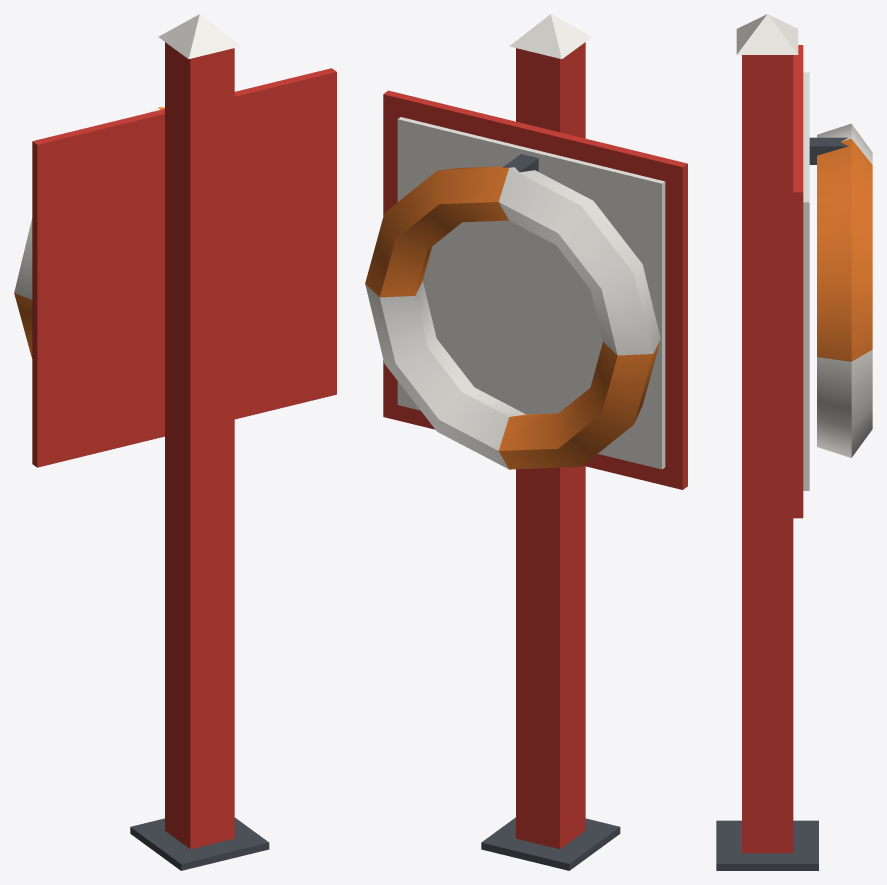
File: prop_lifebuoy_stand.glb
3 views of the same model, side by side, from view 1: azimuth 30°, elevation 25°; view 2: azimuth 150°, elevation 25°; view 3: azimuth 270°, elevation 25° (orthographic).
Parts seen in each view (by area): view 1: prop_lifebuoy_stand__mesh; view 2: prop_lifebuoy_stand__mesh; view 3: prop_lifebuoy_stand__mesh.
Part boxes in pixels (x1,y1,x2,y2): prop_lifebuoy_stand__mesh: (14, 14, 336, 870); prop_lifebuoy_stand__mesh: (365, 14, 687, 870); prop_lifebuoy_stand__mesh: (716, 14, 872, 870).
Bounding box in the file's own units: 0.68 × 1.79 × 0.305.
Materials: 1 (1 with a texture image).
